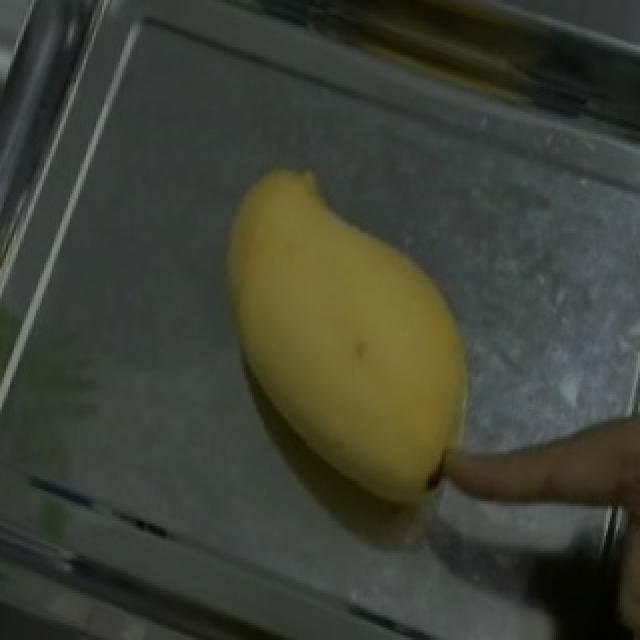fruit: (164, 139, 538, 526)
